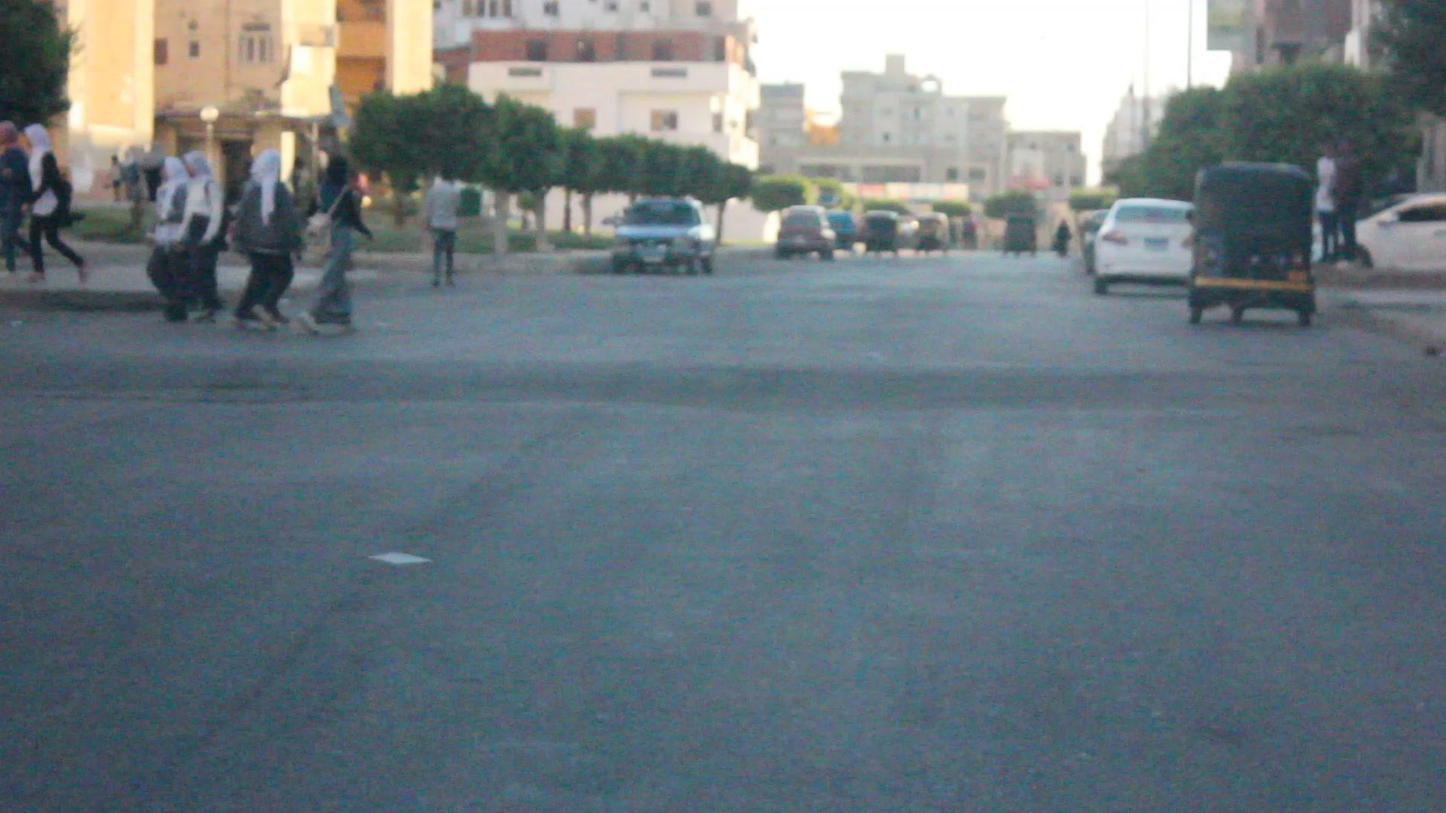Bump: (0, 327, 1446, 444)
